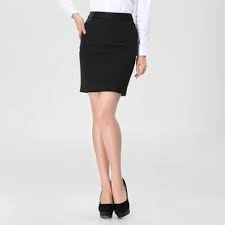F_tailored skirt: (76, 7, 142, 101)
